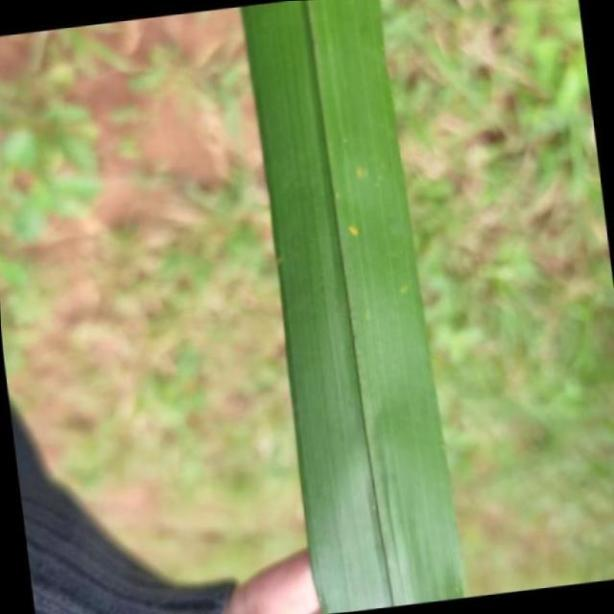Kalium: (238, 1, 468, 614)
